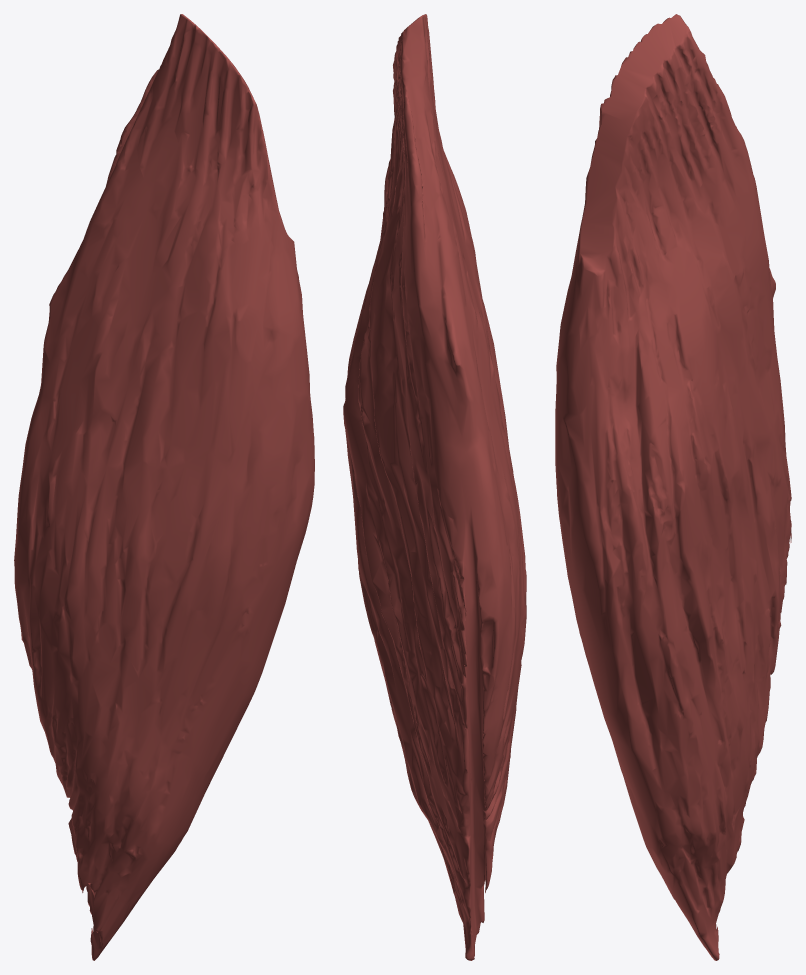
File: FMA22425.glb
3 views of the same model, side by side, from view 1: azimuth 30°, elevation 25°; view 2: azimuth 150°, elevation 25°; view 3: azimuth 270°, elevation 25° (orthographic). The views are drawn at different scales.
Parts seen in each view (by area): view 1: FMA22425; view 2: FMA22425; view 3: FMA22425.
Part boxes in pixels (x1,y1,x2,y2): FMA22425: (14,14,314,960); FMA22425: (343,14,526,960); FMA22425: (555,14,791,960).
Bounding box in the file's own units: 0.0379 × 0.1563 × 0.0341.
